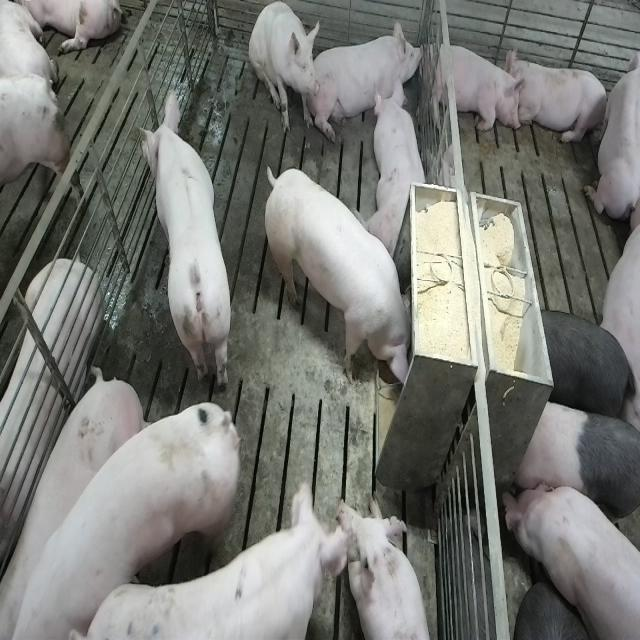Feeding: (269, 165, 421, 393)
Lateral_lying: (0, 257, 102, 601)
Sitting: (249, 2, 320, 137)
Standing: (9, 389, 247, 638), (95, 475, 358, 638), (138, 82, 234, 386), (500, 474, 638, 640), (511, 398, 638, 548), (535, 304, 638, 427)
Sternal_lying: (338, 493, 435, 640), (315, 13, 424, 137), (370, 81, 431, 261), (424, 37, 525, 138), (584, 37, 637, 225), (510, 52, 610, 149)
